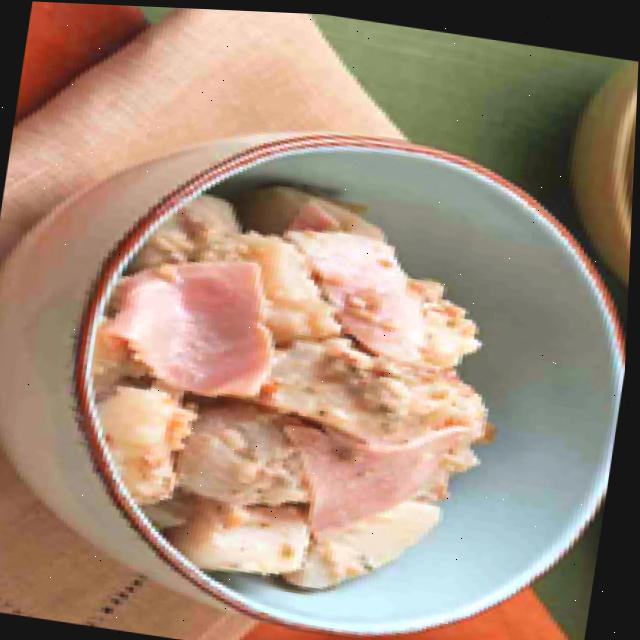蔬菜料理: (58, 107, 636, 640)
